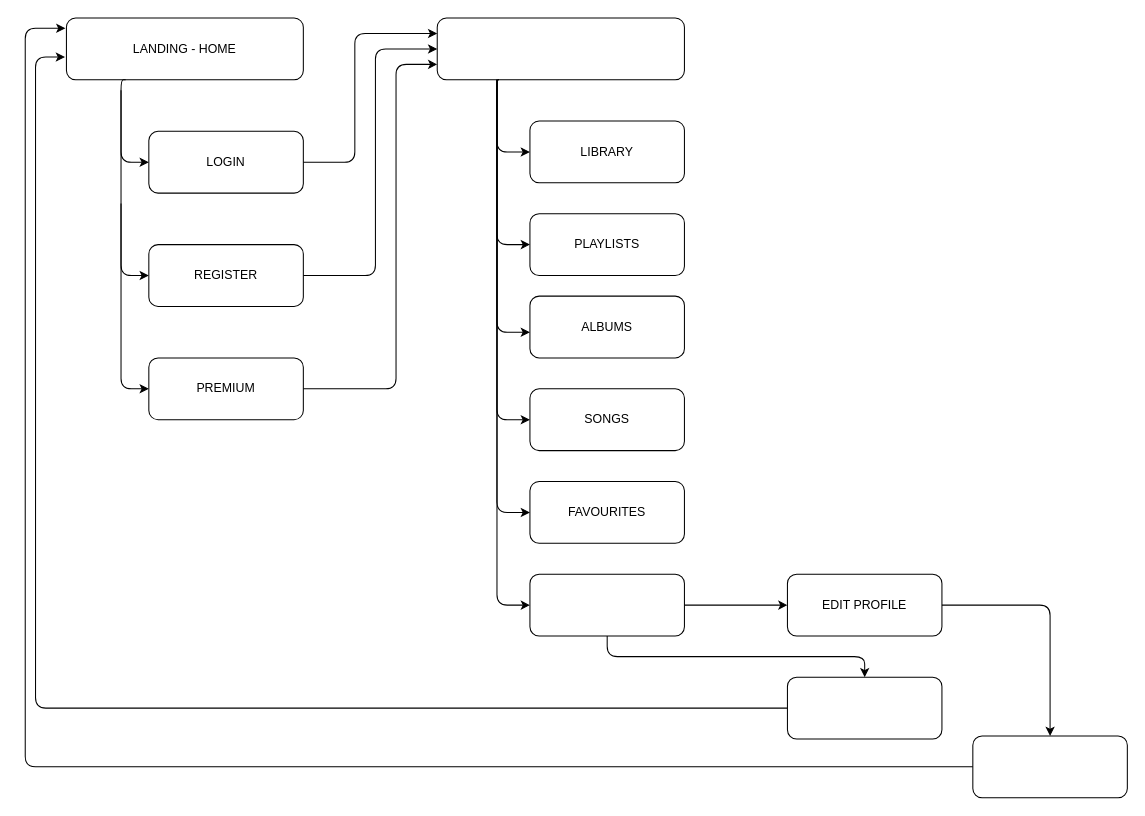
This 1145x816 diagram has some shape labels left out. Here are the shapes that lost their labels. From the top down, the box of each, then its label:
(436, 17, 684, 80): DISCOVER - LIBRARY
(529, 573, 684, 636): PROFILE
(786, 676, 942, 739): LOG OUT
(972, 735, 1127, 798): DELETE ACCOUNT
